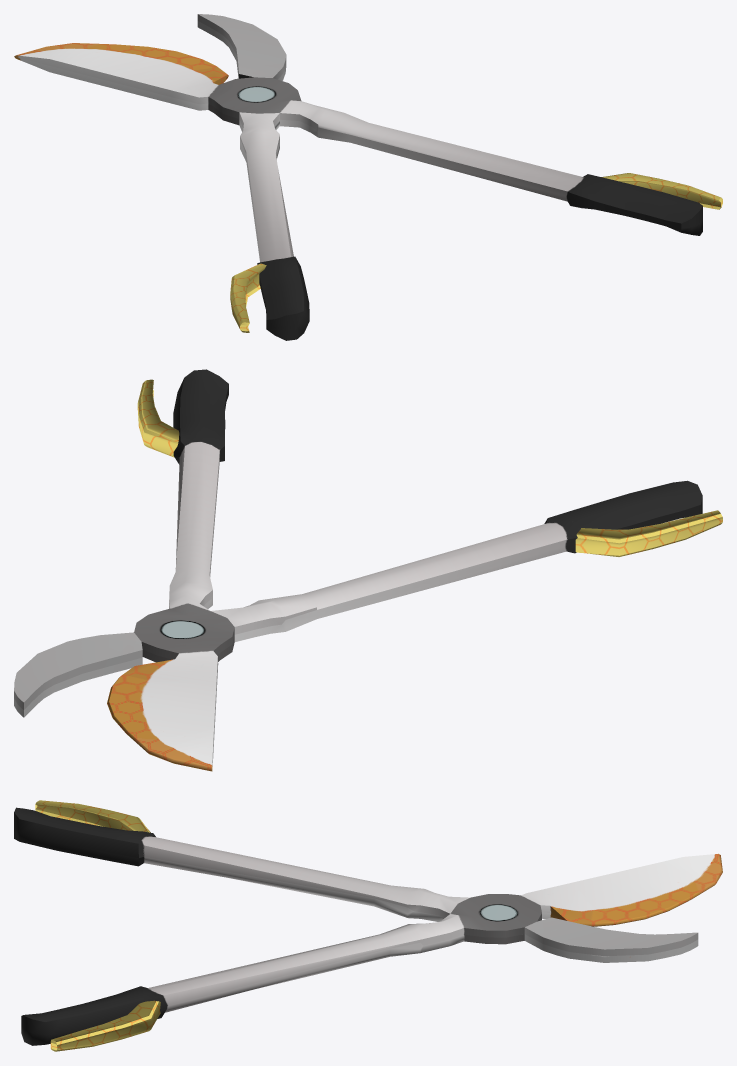
Rendered from Prop_Tijeras_de_podar_grandes.FBX.
3 renders of one model, top to bottom at view 1: azimuth 30°, elevation 25°; view 2: azimuth 150°, elevation 25°; view 3: azimuth 270°, elevation 25°, orthographic. The views are drawn at different scales.
Parts seen in each view (by area): view 1: Line001; view 2: Line001; view 3: Line001.
Boxes of the visible parts, x1,y1,x2,y2 form: Line001: [14, 14, 722, 340]; Line001: [14, 369, 722, 771]; Line001: [14, 800, 722, 1051].
Bounding box in the file's own units: 15.35 × 0.8517 × 18.78.
